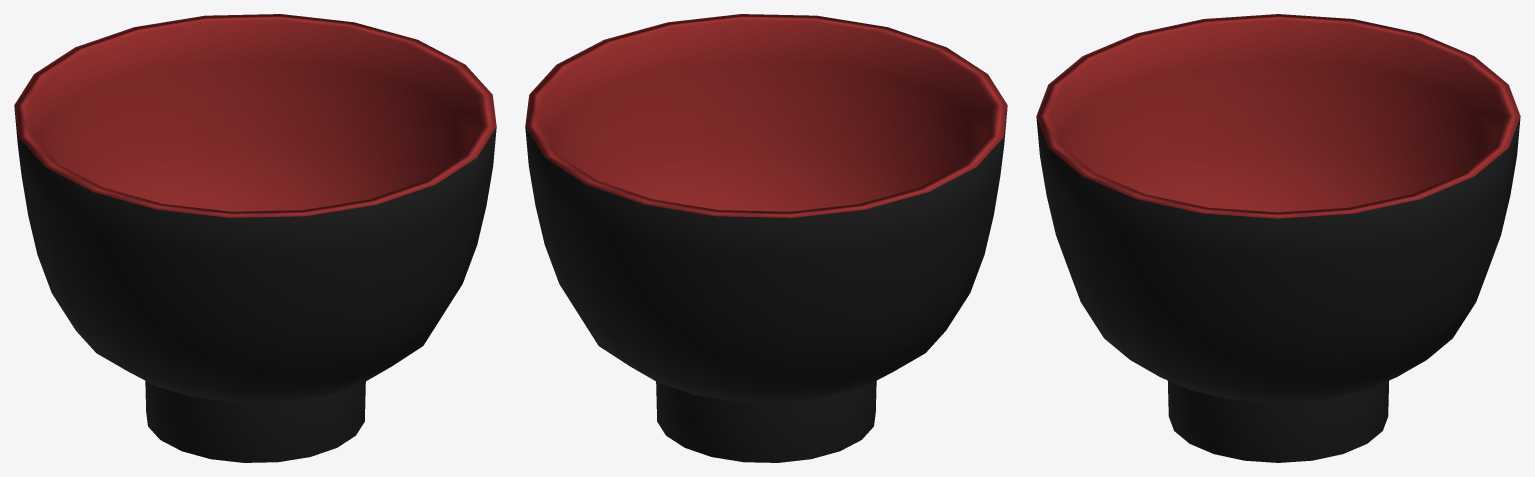
File: SM_Bowl.fbx
3 renders of one model, left to right at view 1: azimuth 30°, elevation 25°; view 2: azimuth 150°, elevation 25°; view 3: azimuth 270°, elevation 25°, orthographic.
Visible parts, largest first — view 1: SM_Bowl; view 2: SM_Bowl; view 3: SM_Bowl.
Boxes of the visible parts, x1,y1,x2,y2 form: SM_Bowl: (14,14,496,462); SM_Bowl: (525,14,1007,462); SM_Bowl: (1036,14,1520,462).
Bounding box in the file's own units: 13.77 × 9.42 × 13.77.
